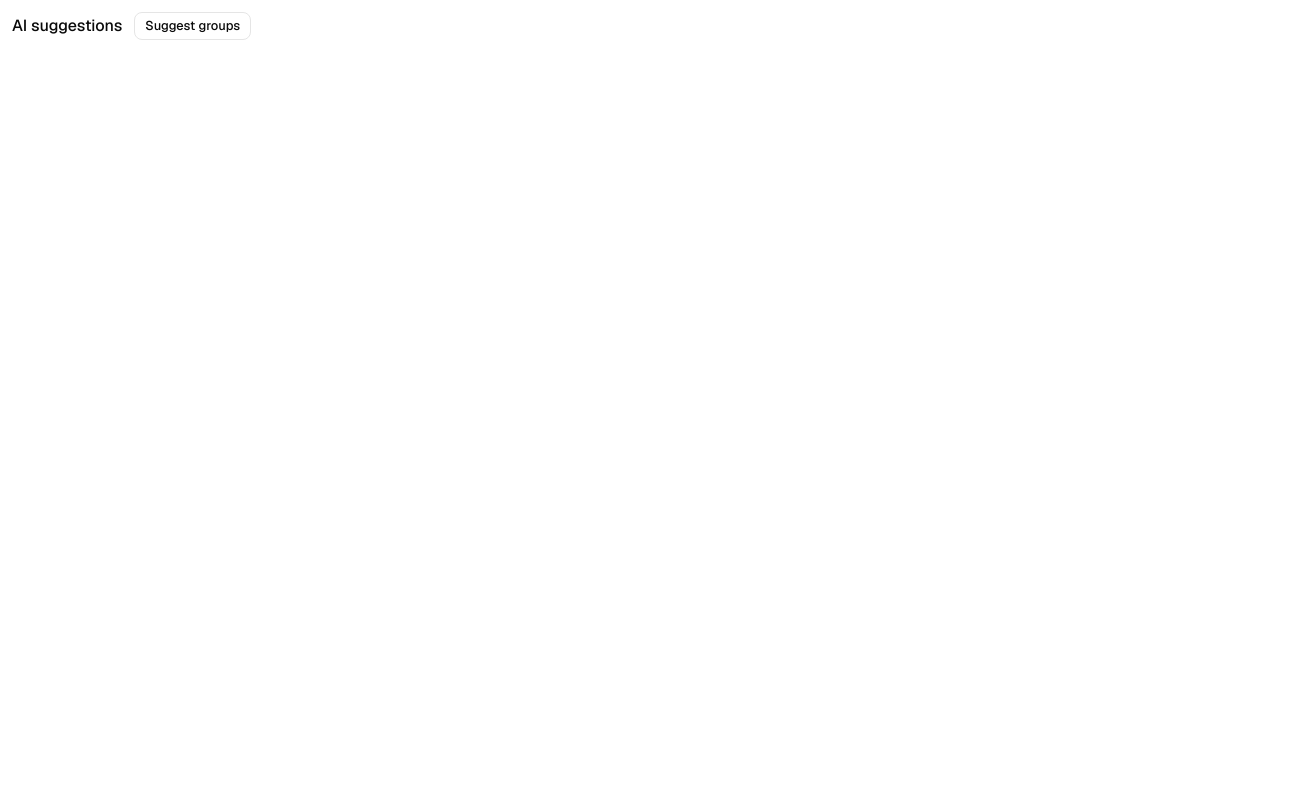
TriagePanel › merges only the groups the moderator chose
Click the button "Suggest groups" at (193, 26), box [134,12,251,40]
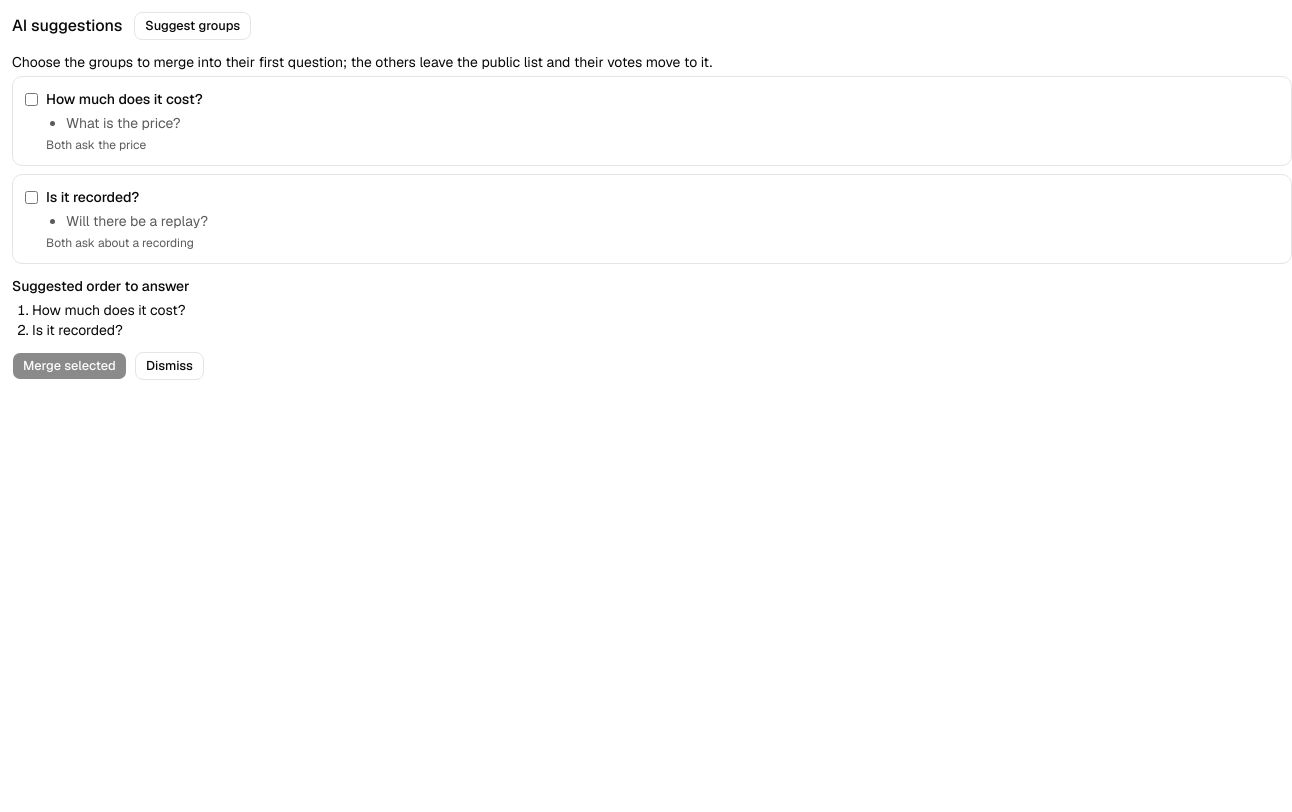
Click the checkbox labelled "Is it recorded?" at (32, 198), box [25,191,38,204]
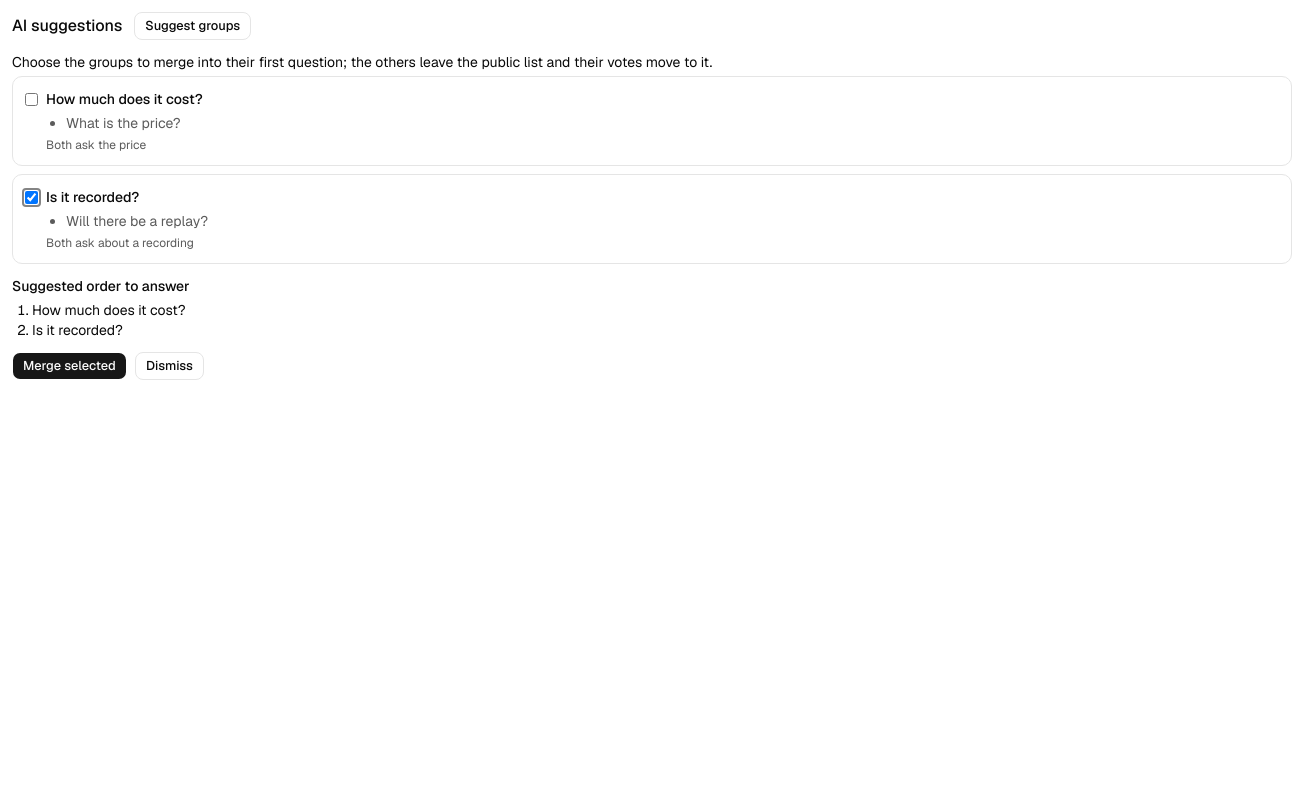
Click the button "Merge selected" at (69, 366), box [12,352,127,380]
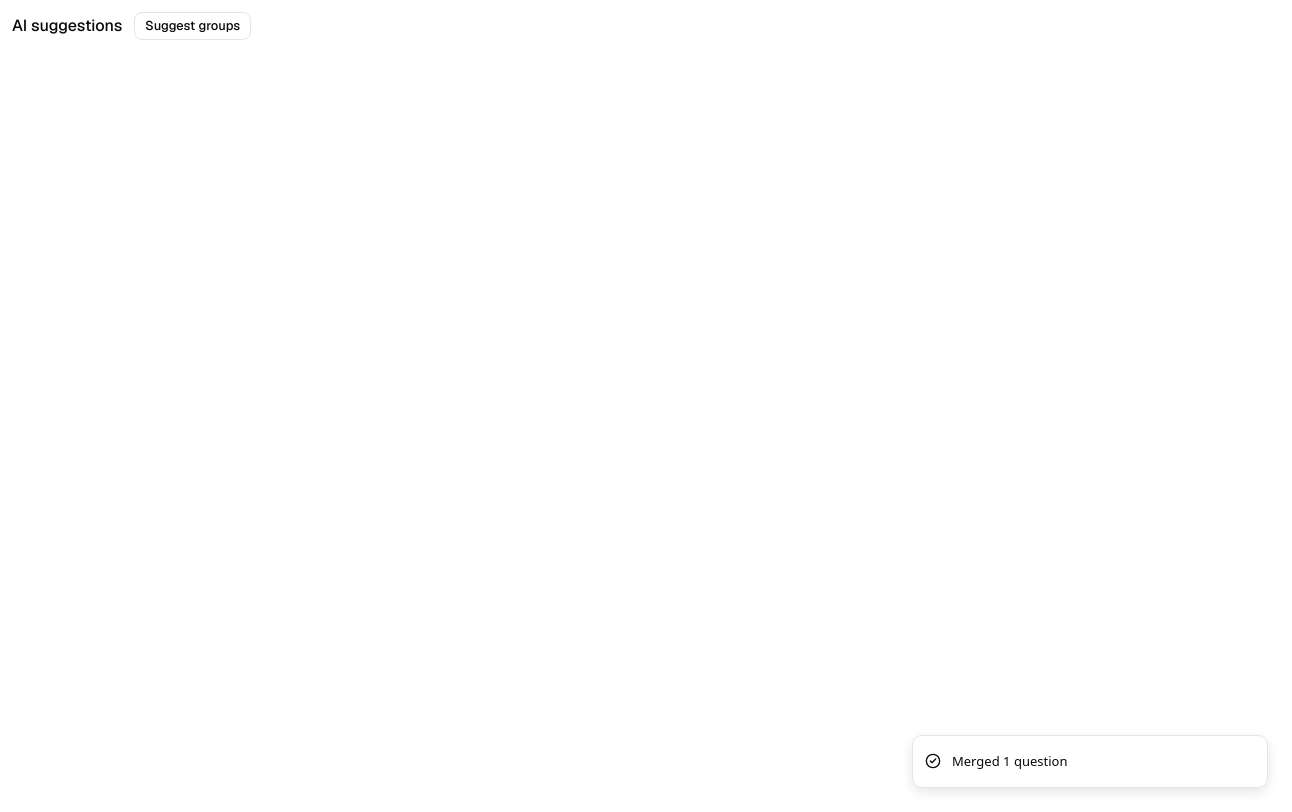
Check: the text "Merged 1 question" is shown, box [952,752,1067,771]
